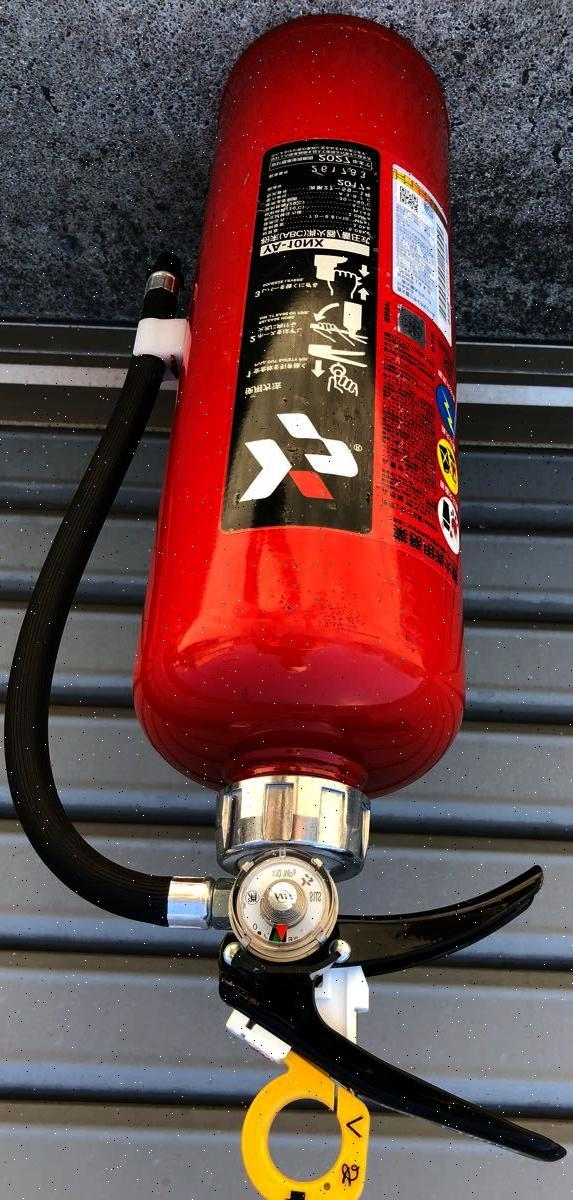Fire Extinguisher: (13, 0, 567, 1200)
